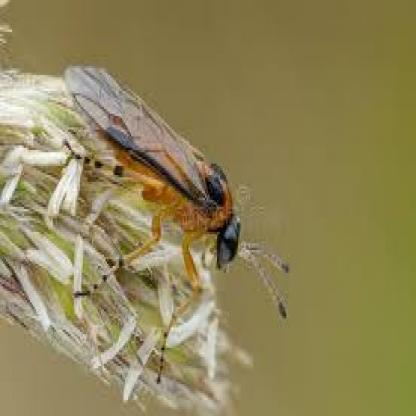sawfly: (55, 59, 292, 332)
